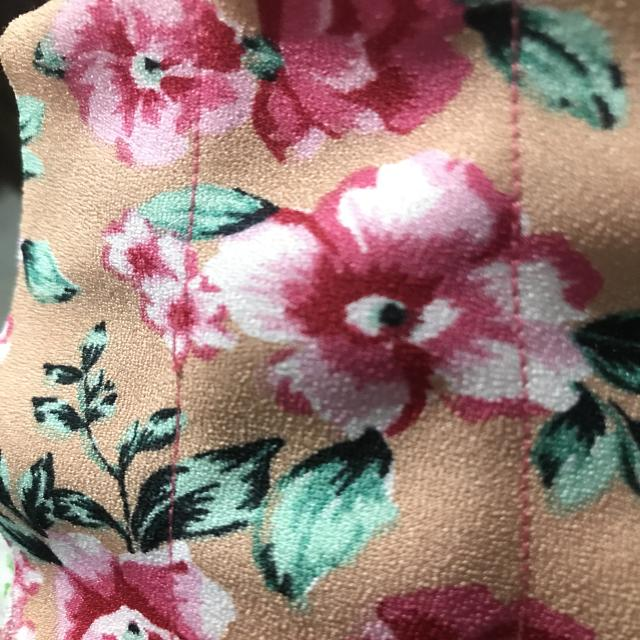skip: (153, 265, 200, 377)
